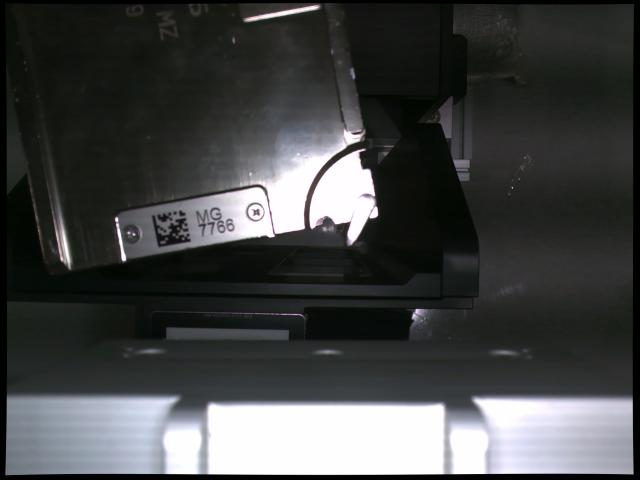jig_latch: (347, 194, 377, 245)
